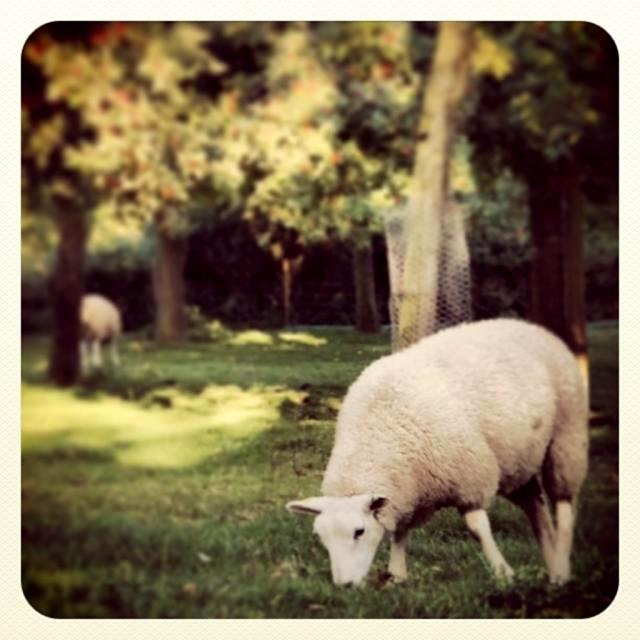sheep: (288, 317, 588, 587)
